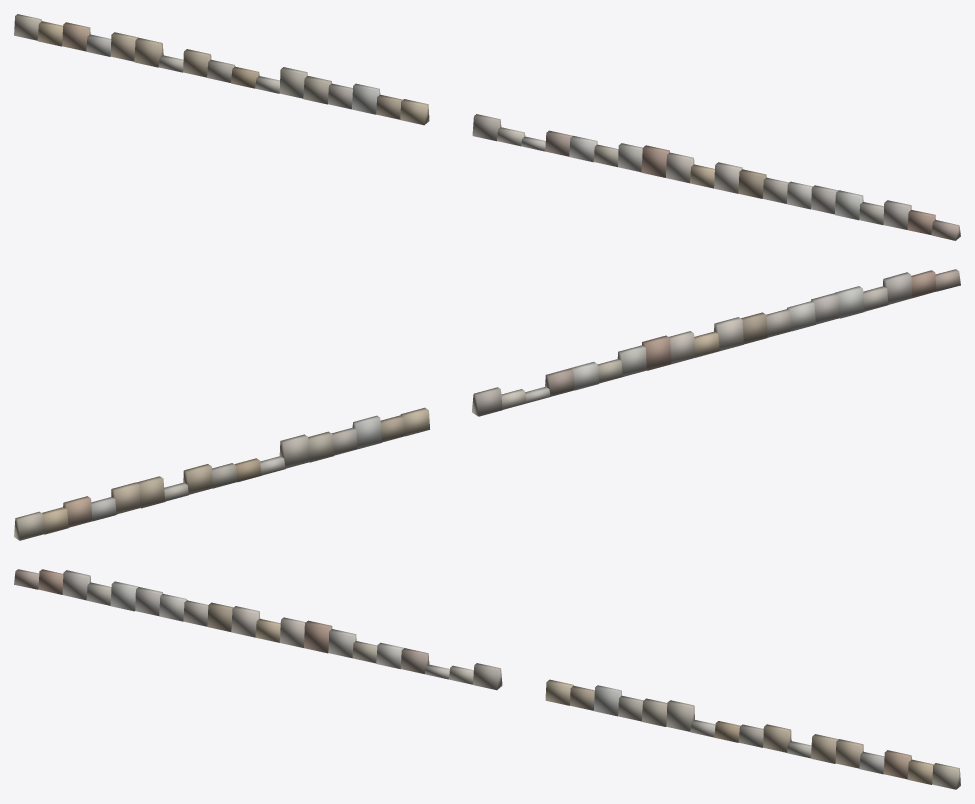
Rendered from farm_7_-4_collision.glb.
The picture shows the model from 3 angles, top to bottom: view 1: azimuth 90°, elevation 25°; view 2: azimuth 150°, elevation 25°; view 3: azimuth 270°, elevation 25°; orthographic projection. The views are drawn at different scales.
Visible parts, largest first — view 1: geometry_0; view 2: geometry_0; view 3: geometry_0.
Part boxes in pixels (x1=…): geometry_0: x1=14, y1=14, x2=960, y2=240; geometry_0: x1=14, y1=269, x2=960, y2=540; geometry_0: x1=14, y1=569, x2=960, y2=789.
Size of the model in its own units: 28.93 by 1.55 by 55.3.
